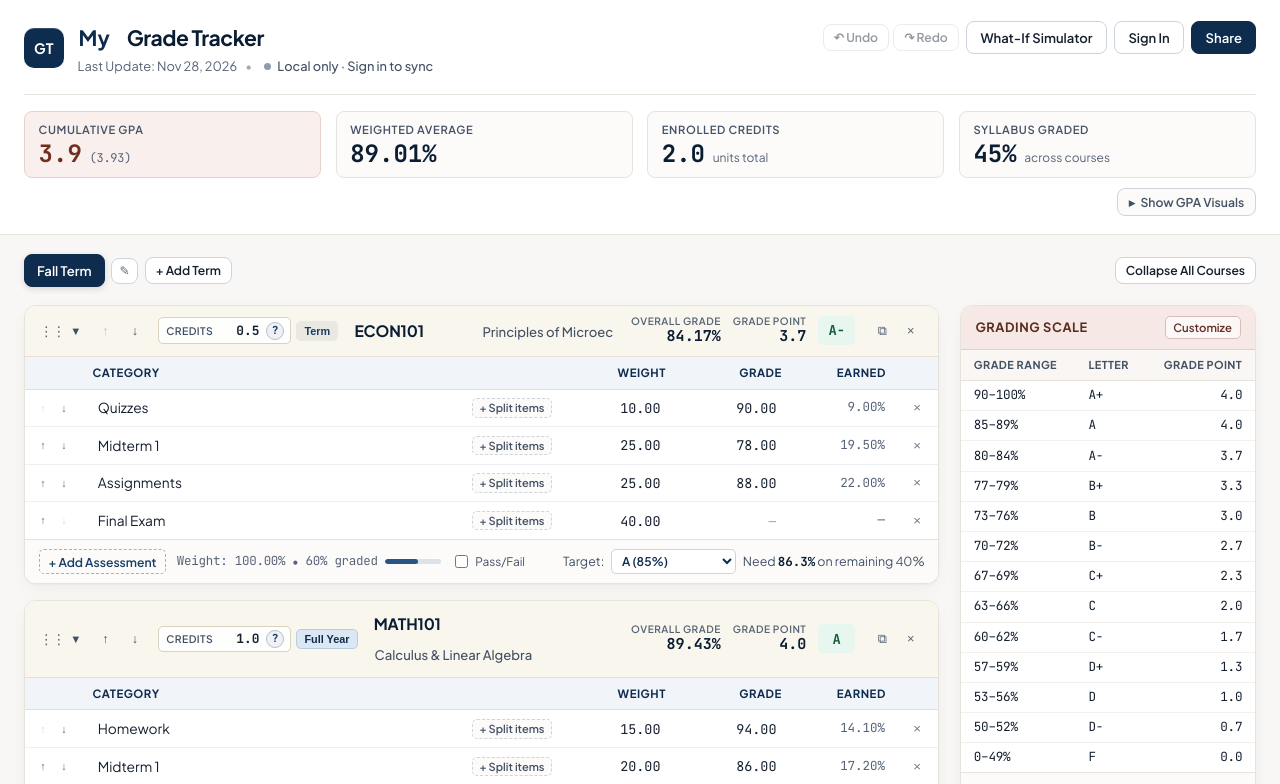
Test: Grade Tracker React Application (M1 + M1.1 + Firebase Cloud Sync) › supports collapsing and expanding individual and all courses (M1.1)
Click the button "Collapse All Courses": [1185, 271] box [1115,257,1256,284]
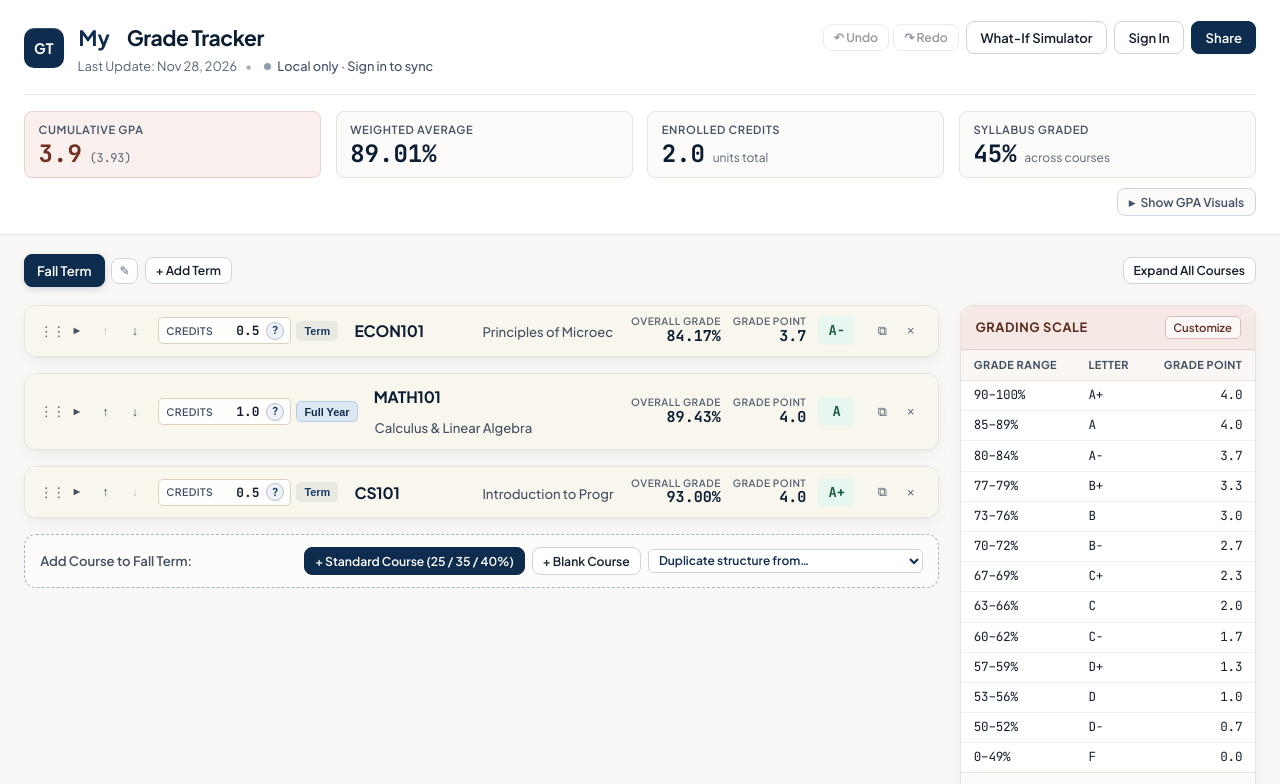
Now the button "Expand All Courses" is shown
Now the button "+ Add Assessment" is gone
Click the button "Expand All Courses": [1189, 271] box [1123,257,1256,284]
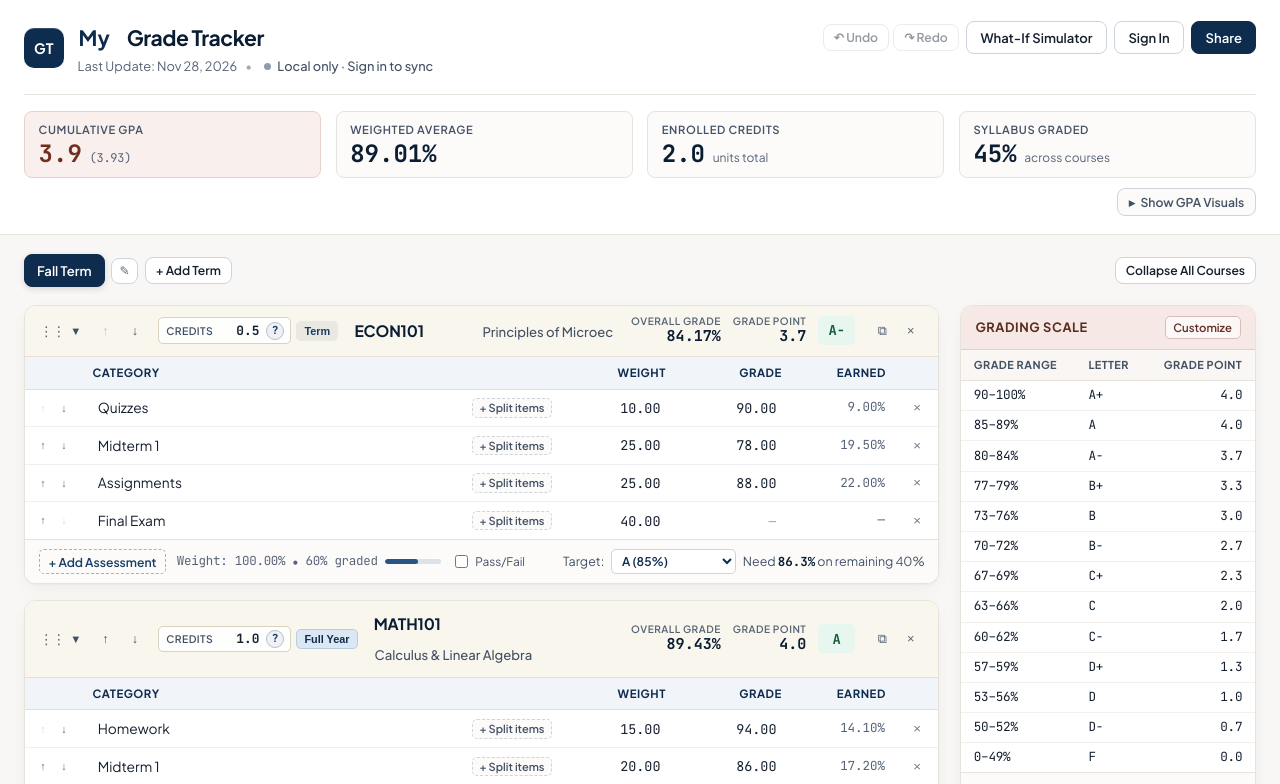
Now the button "+ Add Assessment" is shown, box [39,549,166,574]
